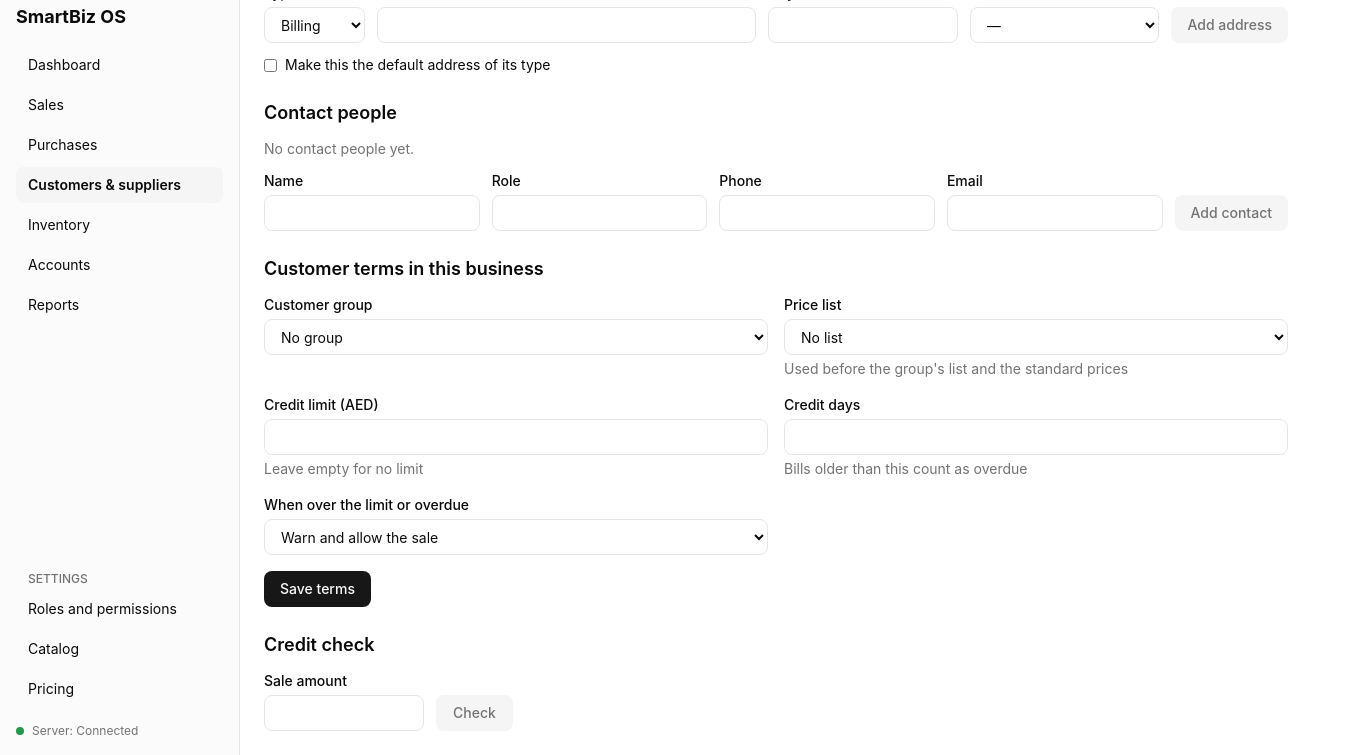
Test: Customers & suppliers screens › shows a blocked credit check, with cheques shown but not counted
The width and height of the screenshot is (1366, 755).
(page scrolled)
Type "6000" into the field labelled "Sale amount". click: (344, 713)
box: [264,695,424,731]
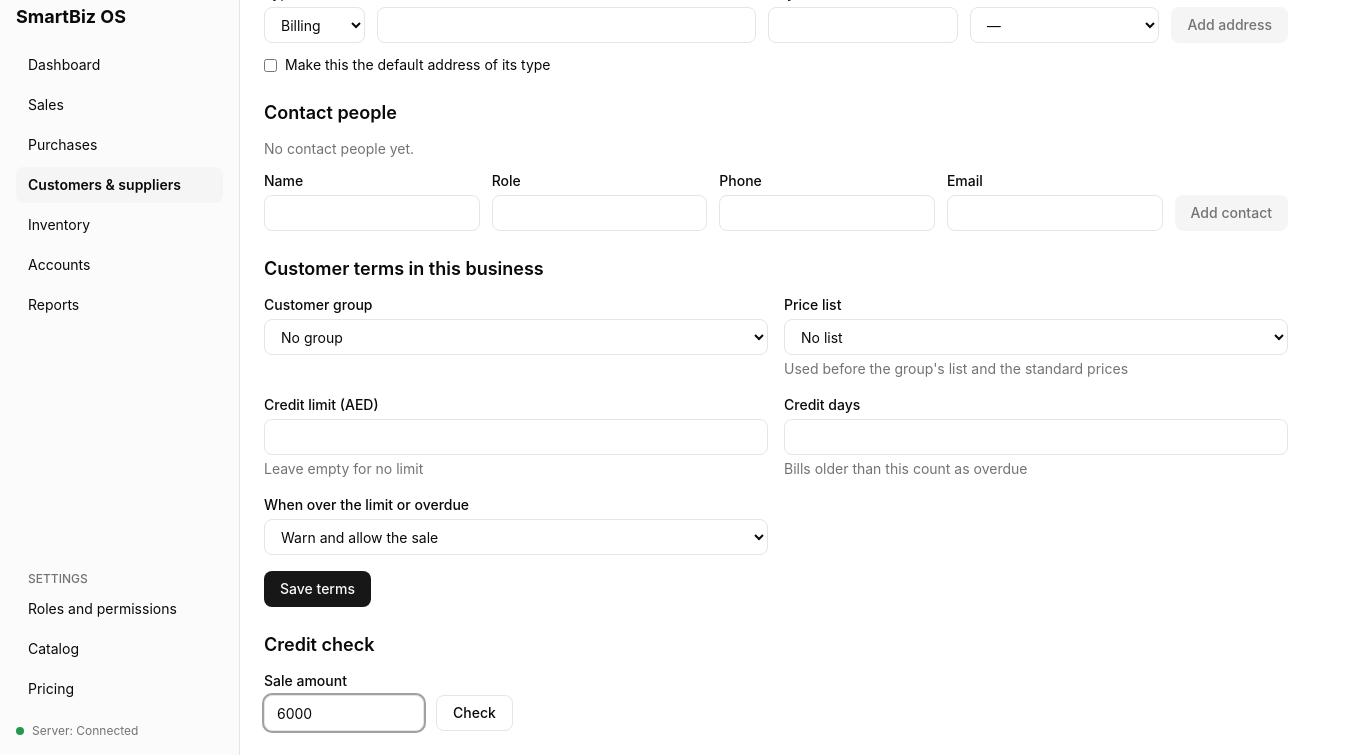
Click the button "Check". click: (474, 713)
box: [436,695,513,731]
(page scrolled)
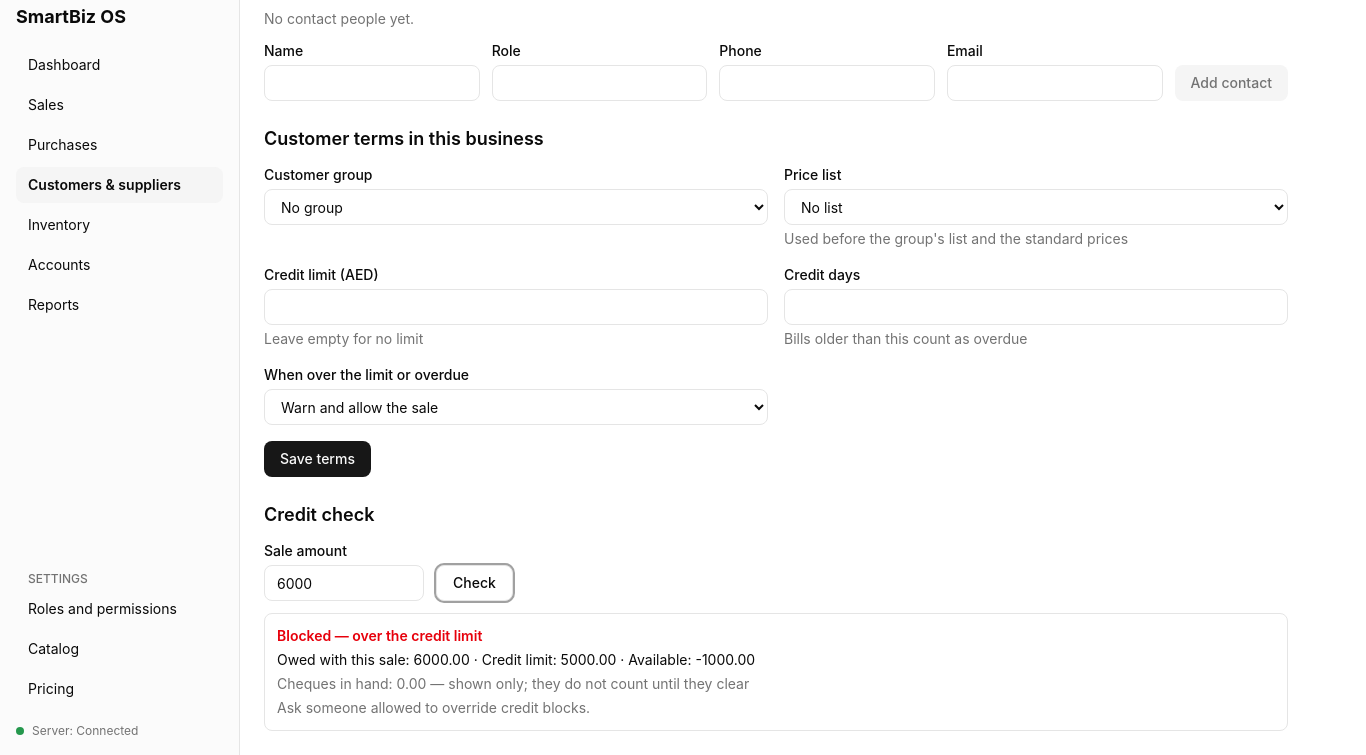
Check: the element with test id "credit-result" shows "Blocked — over the credit limit", box [264,613,1288,731]
Check: the element with test id "credit-result" shows "Available: -1000.00", box [264,613,1288,731]
Check: the element with test id "credit-result" shows "they do not count until they clear", box [448,675,749,692]
